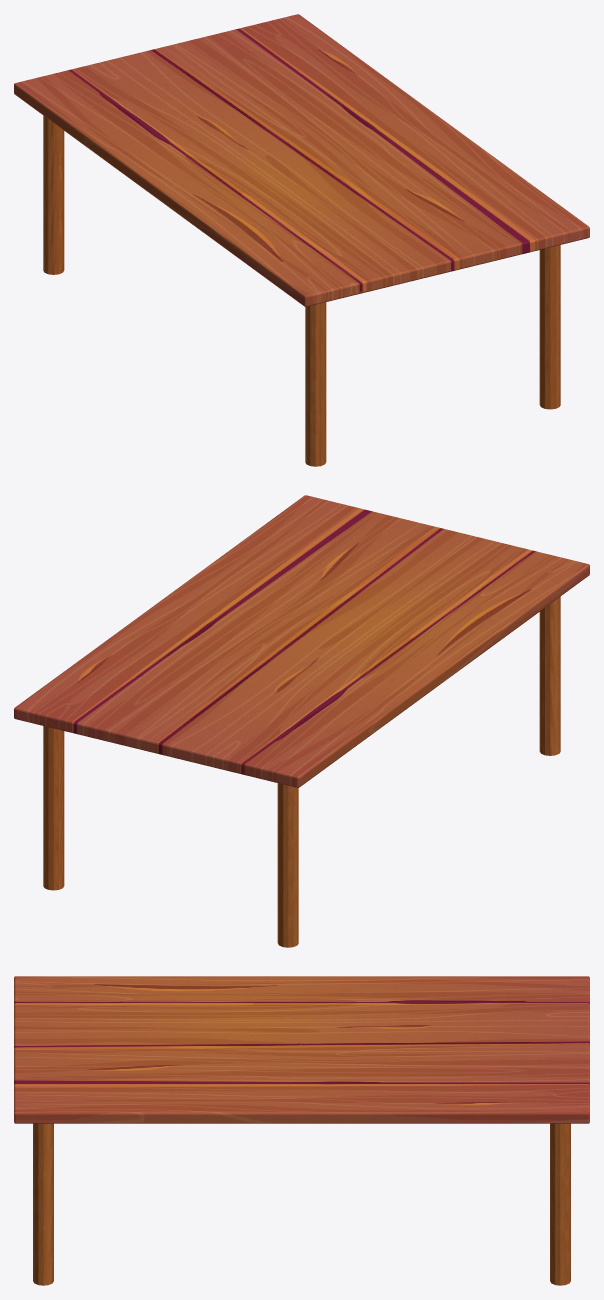
Rendered from table.fbx.
The picture shows the model from 3 angles, top to bottom: view 1: azimuth 30°, elevation 25°; view 2: azimuth 150°, elevation 25°; view 3: azimuth 270°, elevation 25°; orthographic projection.
Visible parts, largest first — view 1: Cube, Cylinder; view 2: Cube, Cylinder; view 3: Cube, Cylinder.
Boxes of the visible parts, <box> form: Cube: <box>14,14,589,306</box>; Cylinder: <box>43,115,560,466</box>; Cube: <box>14,495,589,787</box>; Cylinder: <box>43,596,560,947</box>; Cube: <box>14,976,589,1123</box>; Cylinder: <box>33,1123,570,1285</box>.
Bounding box in the file's own units: 579 × 1026 × 355.
Materials: 2 (2 with a texture image).
